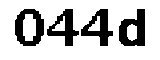0: (11, 5, 45, 48)
4: (80, 1, 116, 52), (45, 3, 80, 49)
d: (117, 3, 151, 51)
